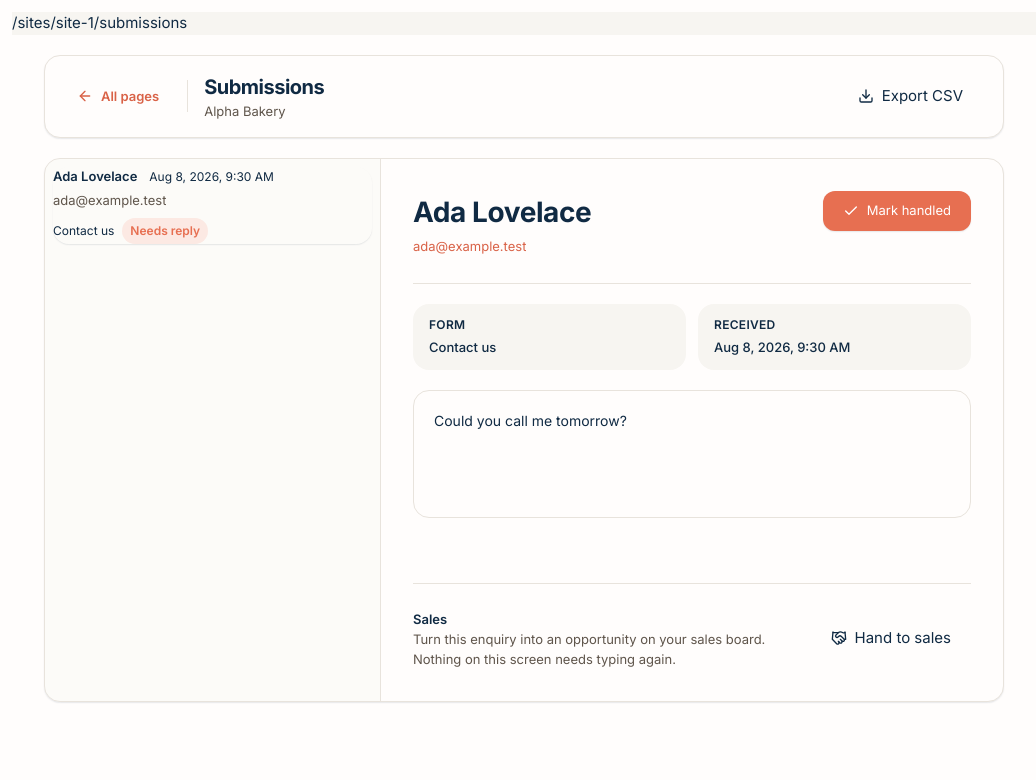
Scenario: the contact submissions inbox › reads a visitor message and marks it handled without leaving the inbox
Expected: the text "Ada Lovelace" is shown 2 times, [53,167,137,186]; [413,191,591,233]
Expected: the text "Could you call me tomorrow?" is shown, [413,390,971,518]
What coordinates should you click on to do the following:
click the button "Mark handled"
I would click on:
 (897, 211)
Its box is [823,191,971,231].
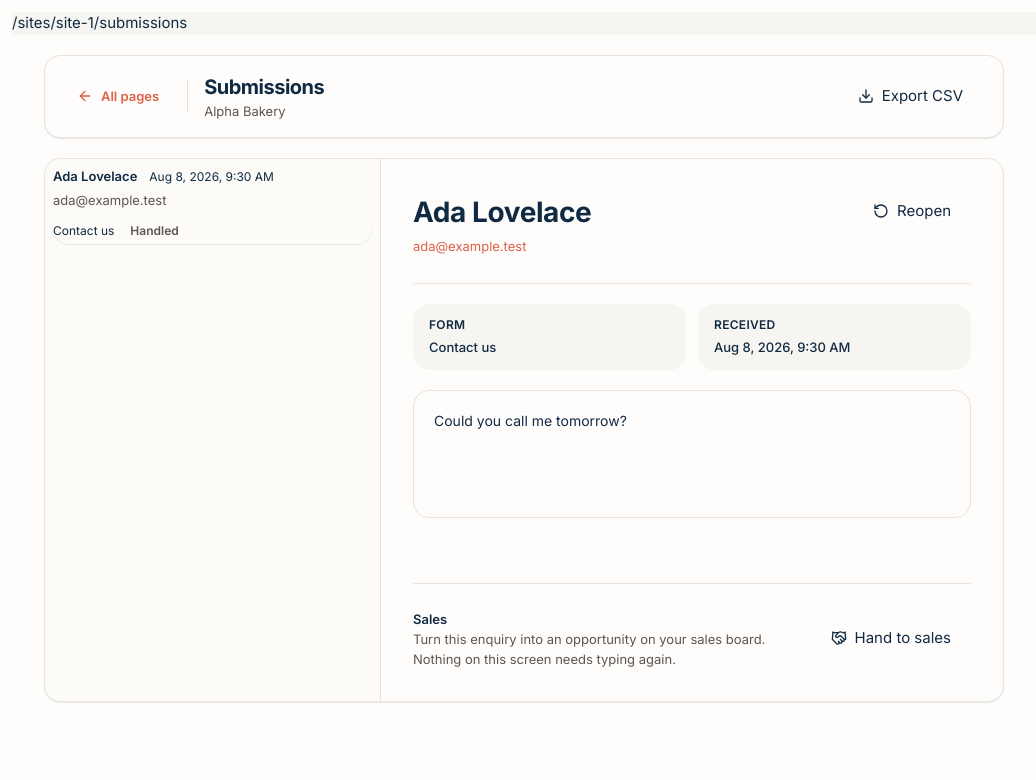
Expected: the text "Handled" is shown, [130,223,179,238]
Expected: the button "Reopen" is shown, [853,191,971,231]
